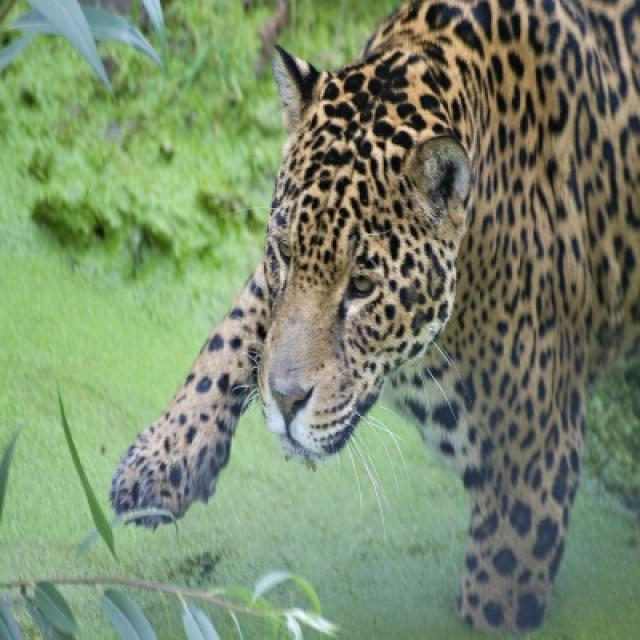Jaguar: (109, 0, 638, 637)
